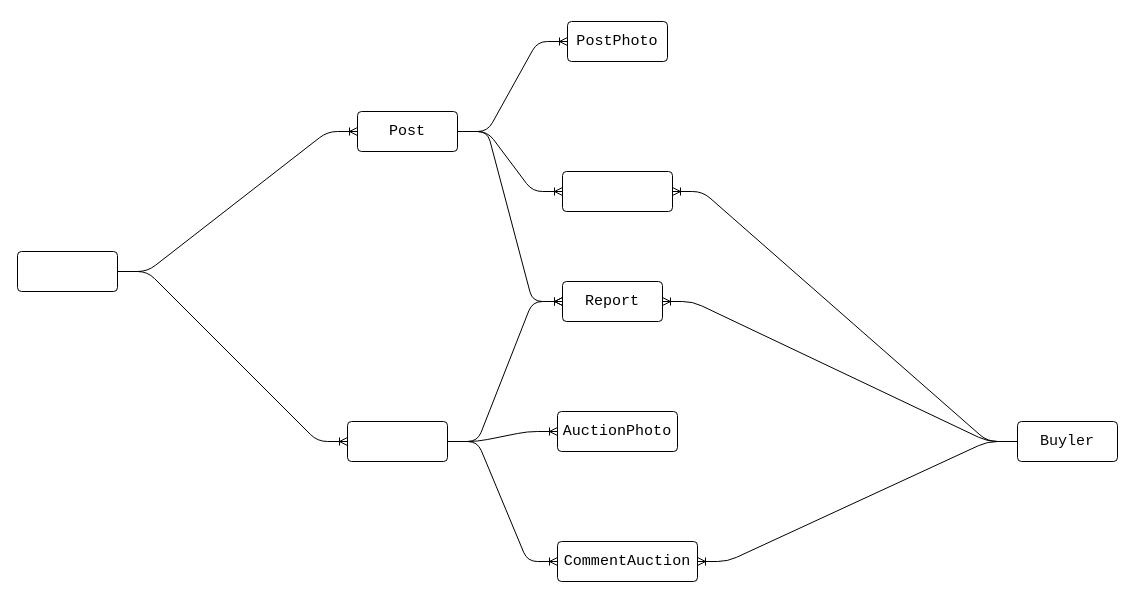
This 1135x602 diagram has some shape labels left out. The shapes that lost their labels are listed below. From the top down, each one's centre as x and y in pixels, then its label:
At point 617,191: "CommentPost".
At point 67,271: "Seller".
At point 397,441: "Auction".
